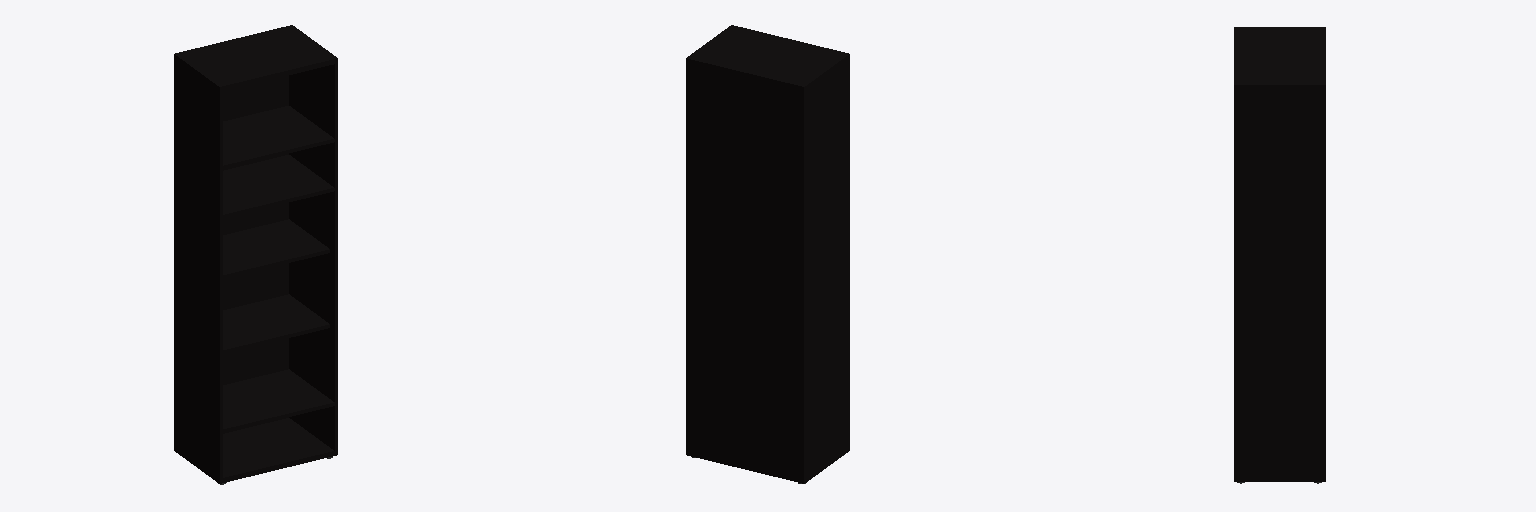
File: besta_bookcase_2_obj0_object.obj
The picture shows the model from 3 angles: view 1: azimuth 30°, elevation 25°; view 2: azimuth 150°, elevation 25°; view 3: azimuth 270°, elevation 25°; orthographic projection.
Parts seen in each view (by area): view 1: Mesh8 Component_40_1 Component_51_1 Model, Mesh12 Component_40_2 Component_51_1 Model, Mesh9 Component_44_1 Component_51_1 Model, Mesh10 Component_47_1 Component_51_1 Model, Mesh11 Component_47_2 Component_51_1 Model, Mesh3 Component_50_1 Component_51_1 Model, Mesh6 Component_50_2 Component_51_1 Model, Mesh13 Component_50_3 Component_51_1 Model, Mesh7 Component_48_1 Component_51_1 Model, Mesh14 Component_48_2 Component_51_1 Model; view 2: Mesh9 Component_44_1 Component_51_1 Model, Mesh8 Component_40_1 Component_51_1 Model, Mesh10 Component_47_1 Component_51_1 Model; view 3: Mesh12 Component_40_2 Component_51_1 Model, Mesh10 Component_47_1 Component_51_1 Model.
Boxes of the visible parts, x1,y1,x2,y2 form: Mesh8 Component_40_1 Component_51_1 Model: [174, 59, 222, 478]; Mesh12 Component_40_2 Component_51_1 Model: [289, 64, 337, 450]; Mesh9 Component_44_1 Component_51_1 Model: [175, 25, 290, 433]; Mesh10 Component_47_1 Component_51_1 Model: [174, 25, 337, 91]; Mesh11 Component_47_2 Component_51_1 Model: [174, 418, 337, 483]; Mesh3 Component_50_1 Component_51_1 Model: [223, 155, 334, 218]; Mesh6 Component_50_2 Component_51_1 Model: [223, 106, 334, 168]; Mesh13 Component_50_3 Component_51_1 Model: [223, 369, 334, 432]; Mesh7 Component_48_1 Component_51_1 Model: [223, 219, 329, 278]; Mesh14 Component_48_2 Component_51_1 Model: [223, 294, 329, 353]; Mesh9 Component_44_1 Component_51_1 Model: [686, 58, 804, 483]; Mesh8 Component_40_1 Component_51_1 Model: [805, 59, 849, 477]; Mesh10 Component_47_1 Component_51_1 Model: [687, 25, 849, 91]; Mesh12 Component_40_2 Component_51_1 Model: [1234, 90, 1324, 476]; Mesh10 Component_47_1 Component_51_1 Model: [1234, 27, 1324, 89].
Size of the model in its own units: 23.62 by 76.18 by 15.75.